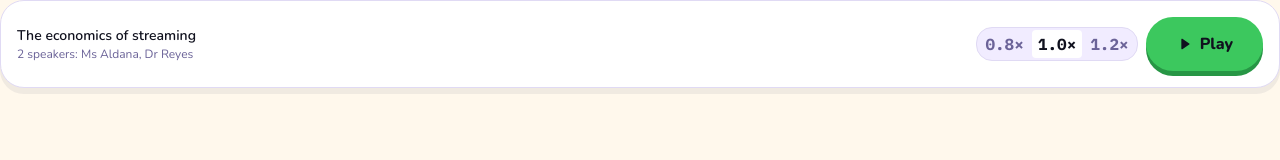
it: AudioPlayer › locks the speed control while the clip is playing
Click the button "Play": click(1204, 44) [1146,17,1263,71]
Wait 5000 ms
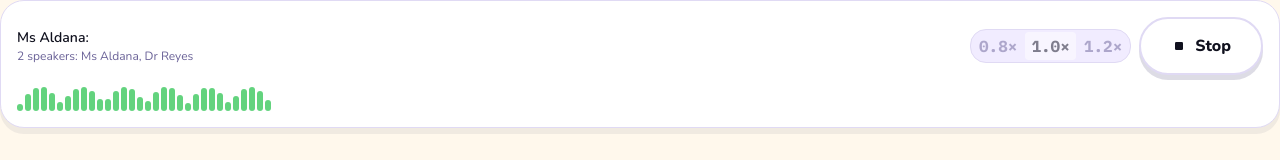
expect the button "1.0×" is disabled: met, box [1025,32,1076,60]
